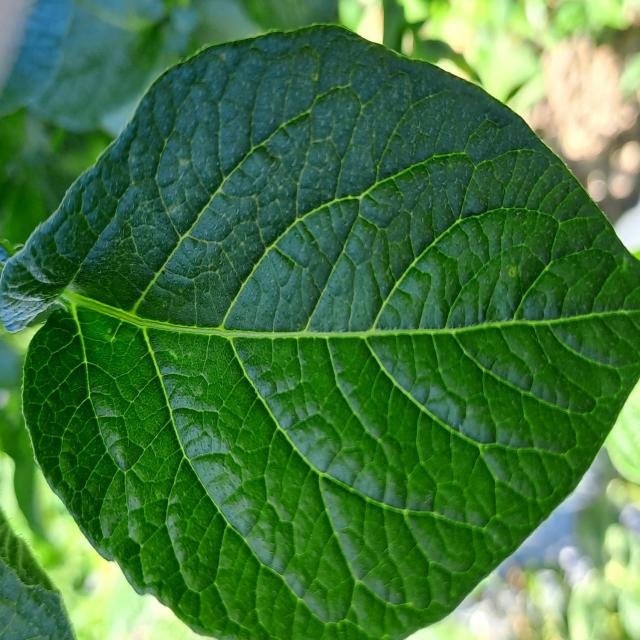healthy: (2, 22, 638, 637)
